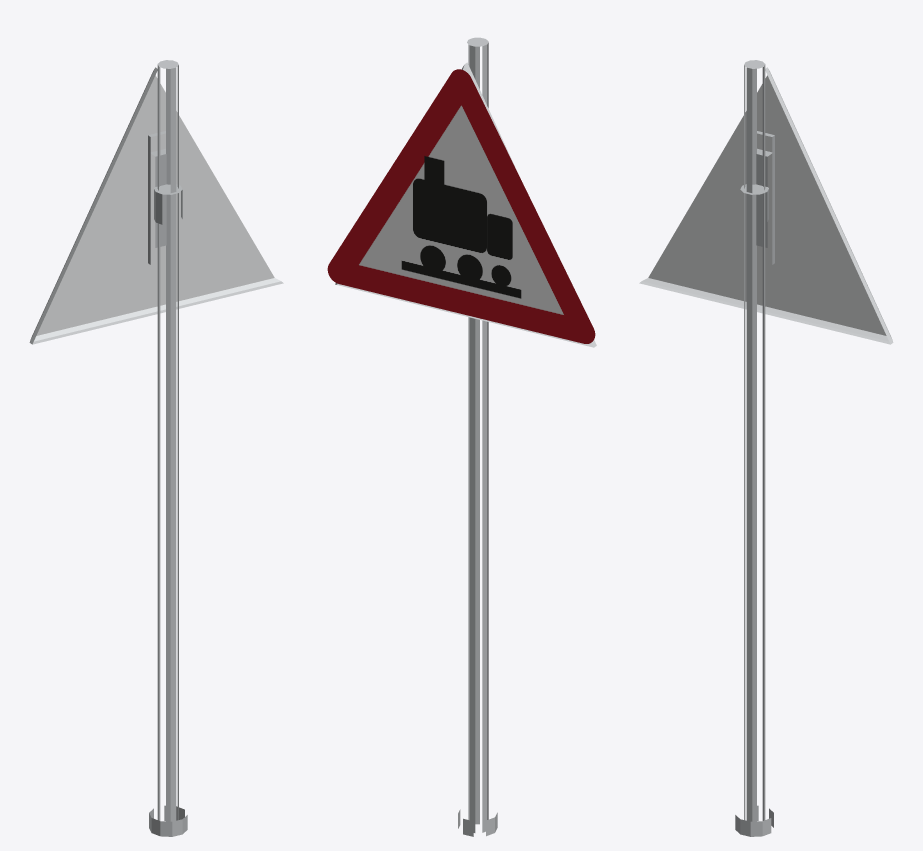
File: sign_rail_unguarded.glb
The picture shows the model from 3 angles, left to right: view 1: azimuth 30°, elevation 25°; view 2: azimuth 150°, elevation 25°; view 3: azimuth 330°, elevation 25°; orthographic projection. The views are drawn at different scales.
Parts seen in each view (by area): view 1: sign_rail_unguarded; view 2: sign_rail_unguarded; view 3: sign_rail_unguarded.
Part boxes in pixels (x1,y1,x2,y2): sign_rail_unguarded: (29, 60, 283, 836); sign_rail_unguarded: (327, 37, 596, 836); sign_rail_unguarded: (639, 60, 893, 836).
Bounding box in the file's own units: 0.95 × 2.53 × 0.1488.
5 materials, 1 textured.
